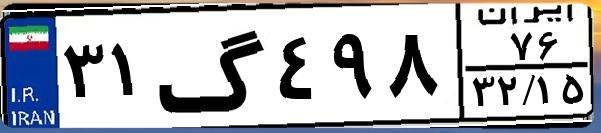1: (110, 28, 156, 98), (535, 70, 560, 125)
2: (495, 70, 520, 125)
3: (57, 26, 110, 100), (470, 70, 495, 125)
4: (270, 28, 330, 110)
5: (560, 70, 590, 125)
6: (537, 27, 568, 80)
7: (508, 27, 537, 80)
8: (385, 28, 445, 110)
9: (330, 28, 385, 110)
گ: (156, 12, 270, 120)
